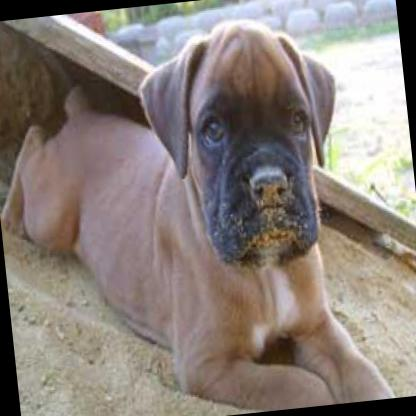boxer: (0, 2, 392, 416)
